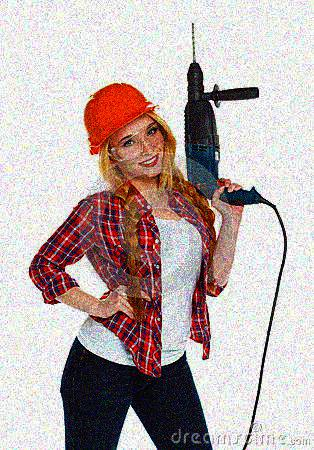helmet: (83, 81, 169, 177)
